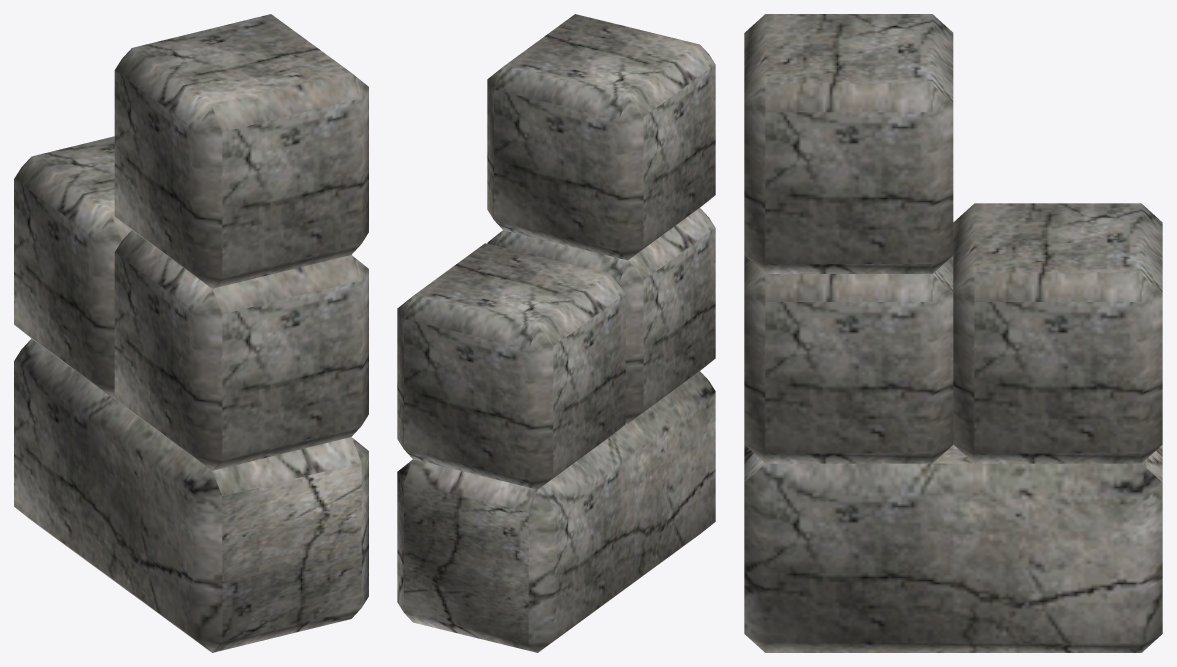
Rendered from BLOCK_CLUSTER01.fbx.
3 views of the same model, side by side, from view 1: azimuth 30°, elevation 25°; view 2: azimuth 150°, elevation 25°; view 3: azimuth 270°, elevation 25° (orthographic). The views are drawn at different scales.
Parts seen in each view (by area): view 1: BLOCK_CLUSTER01; view 2: BLOCK_CLUSTER01; view 3: BLOCK_CLUSTER01.
Boxes of the visible parts, x1,y1,x2,y2 form: BLOCK_CLUSTER01: [14, 14, 368, 652]; BLOCK_CLUSTER01: [397, 14, 715, 652]; BLOCK_CLUSTER01: [744, 14, 1162, 652].
Size of the model in its own units: 10000 by 30000 by 20000.
1 material, 1 textured.
